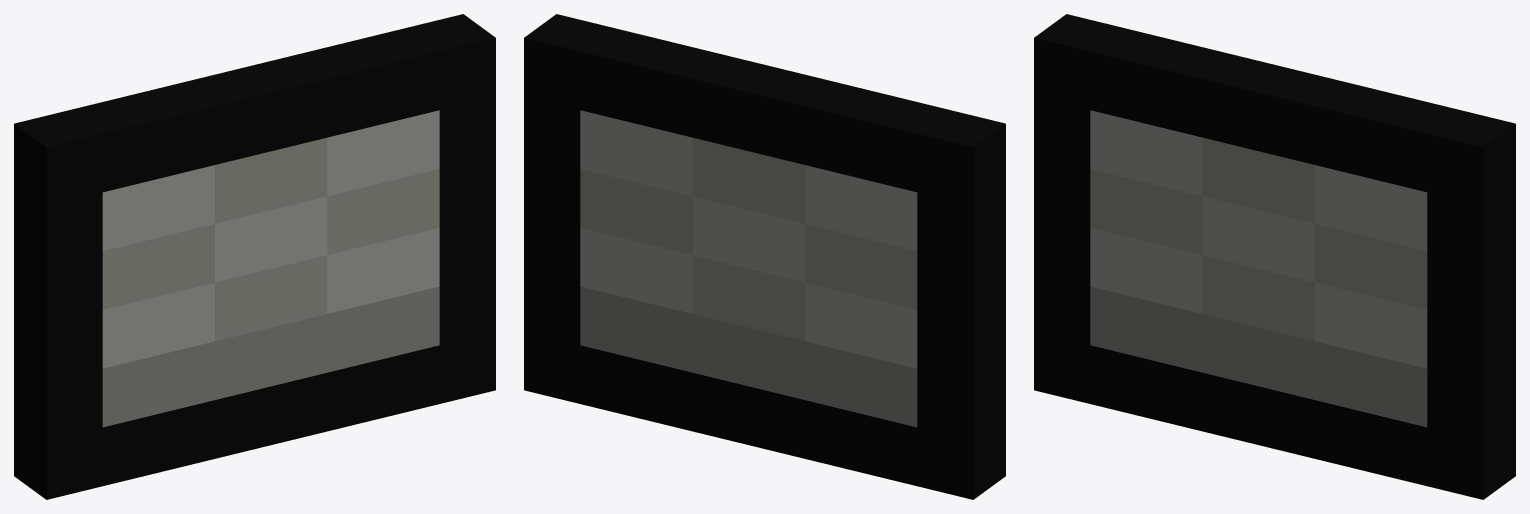
File: Light Gray Carpet.glb
3 views of the same model, side by side, from view 1: azimuth 30°, elevation 25°; view 2: azimuth 150°, elevation 25°; view 3: azimuth 330°, elevation 25° (orthographic).
Parts seen in each view (by area): view 1: generated(Clone); view 2: generated(Clone); view 3: generated(Clone).
Part boxes in pixels (bbox=[...]): generated(Clone): bbox=[14, 14, 495, 499]; generated(Clone): bbox=[524, 14, 1005, 499]; generated(Clone): bbox=[1034, 14, 1515, 499].
Bounding box in the file's own units: 8 × 6 × 1.
1 material, 1 textured.
